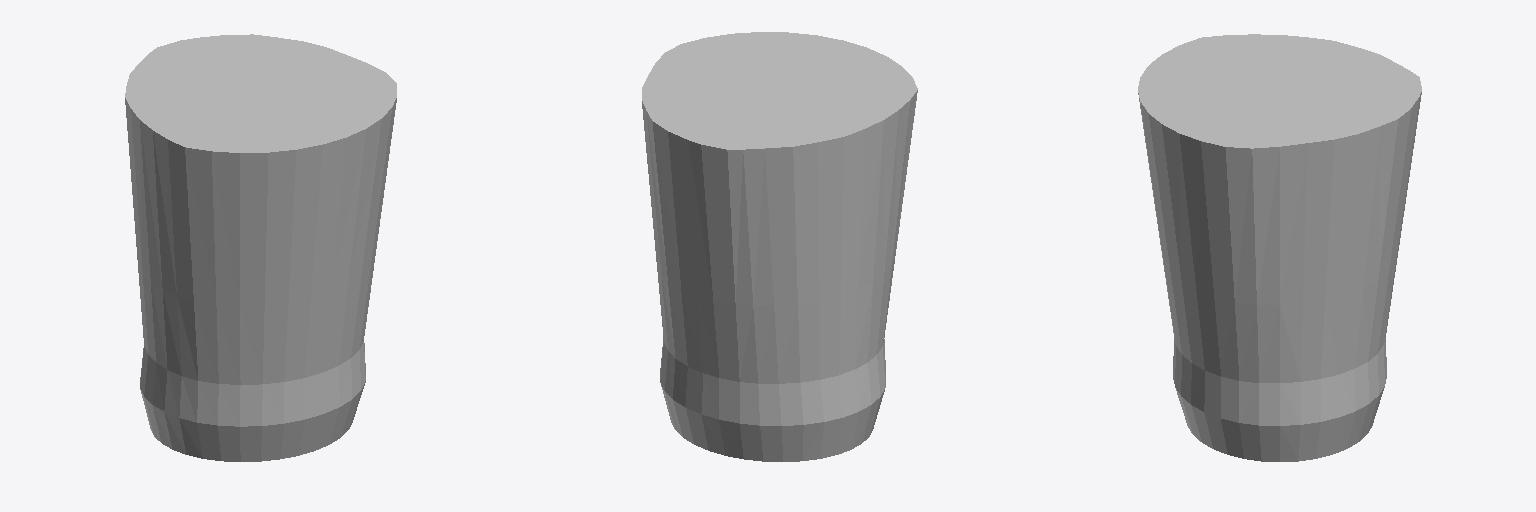
The model's file is pierna_der_arriba.obj.
3 renders of one model, left to right at view 1: azimuth 30°, elevation 25°; view 2: azimuth 150°, elevation 25°; view 3: azimuth 270°, elevation 25°, orthographic.
Visible parts, largest first — view 1: pierna_der_arriba:Mesh; view 2: pierna_der_arriba:Mesh; view 3: pierna_der_arriba:Mesh.
Part boxes in pixels (x1,y1,x2,y2): pierna_der_arriba:Mesh: (125,34,396,461); pierna_der_arriba:Mesh: (642,32,917,461); pierna_der_arriba:Mesh: (1138,34,1421,461).
Size of the model in its own units: 0.2173 by 0.2916 by 0.2287.